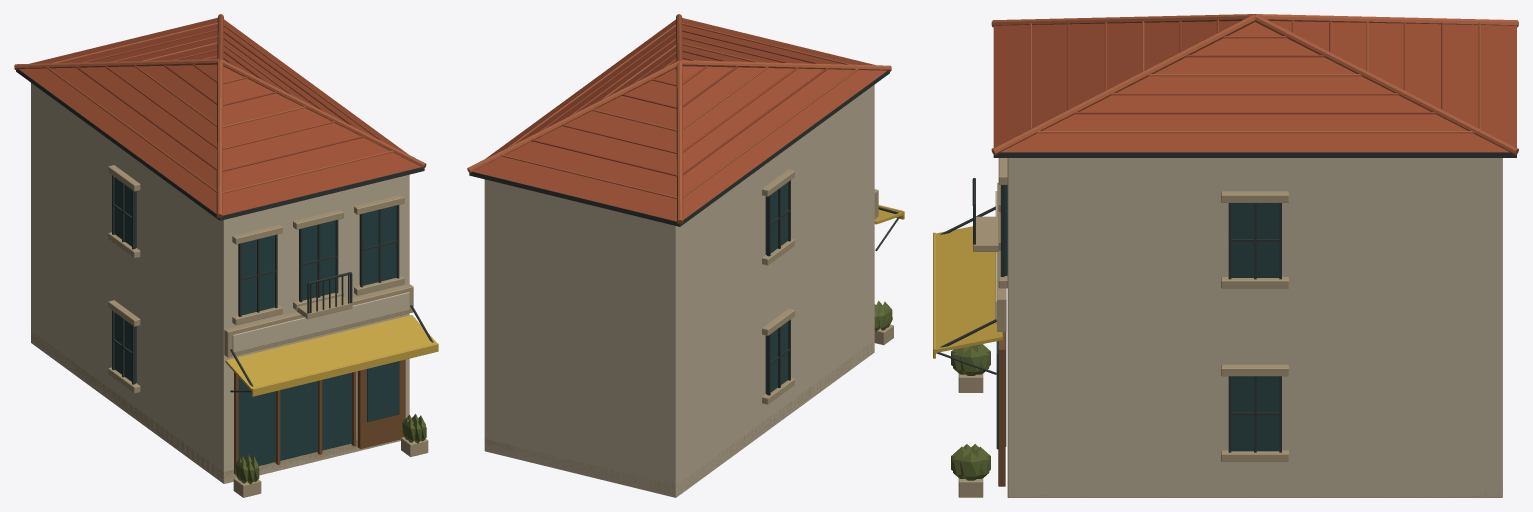
The model's file is shop_a.glb.
The picture shows the model from 3 angles, left to right: view 1: azimuth 30°, elevation 25°; view 2: azimuth 150°, elevation 25°; view 3: azimuth 270°, elevation 25°; orthographic projection. The views are drawn at different scales.
Visible parts, largest first — view 1: shop; view 2: shop; view 3: shop.
Boxes of the visible parts, x1,y1,x2,y2 form: shop: [14, 14, 438, 497]; shop: [467, 14, 904, 497]; shop: [933, 14, 1518, 497].
Size of the model in its own units: 5.52 by 8.35 by 10.41.
